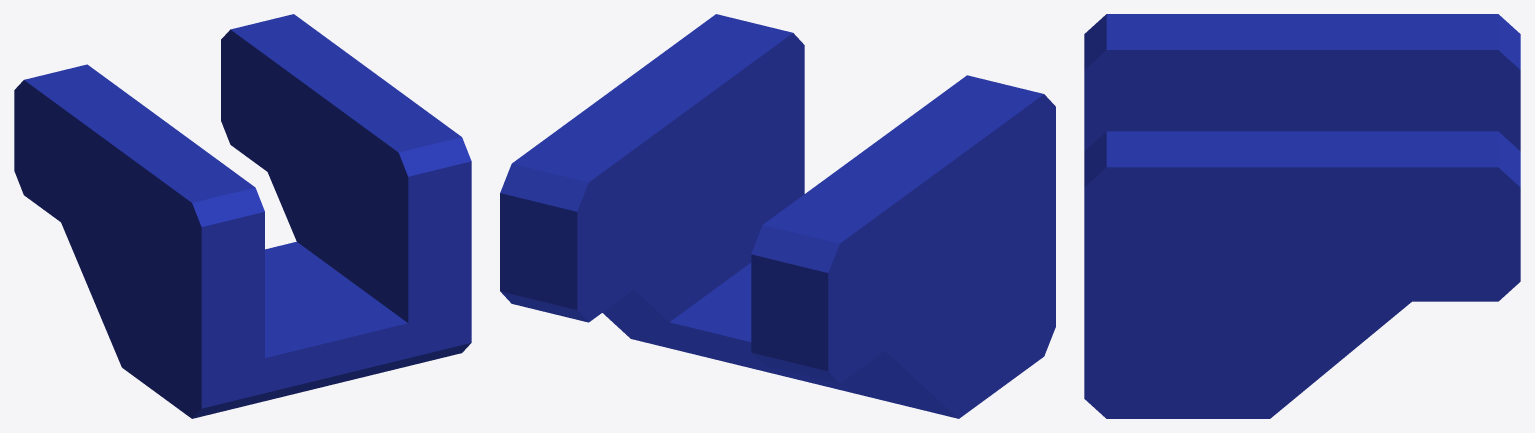
Rendered from Turret_Hub02.FBX.
The picture shows the model from 3 angles, left to right: view 1: azimuth 30°, elevation 25°; view 2: azimuth 150°, elevation 25°; view 3: azimuth 270°, elevation 25°; orthographic projection. The views are drawn at different scales.
Visible parts, largest first — view 1: Hub02; view 2: Hub02; view 3: Hub02.
Part boxes in pixels (box(x1,y1,x2,y2)): Hub02: box(14, 14, 471, 418); Hub02: box(500, 14, 1055, 418); Hub02: box(1084, 14, 1520, 418).
Size of the model in its own units: 64.53 by 77.51 by 49.32.
